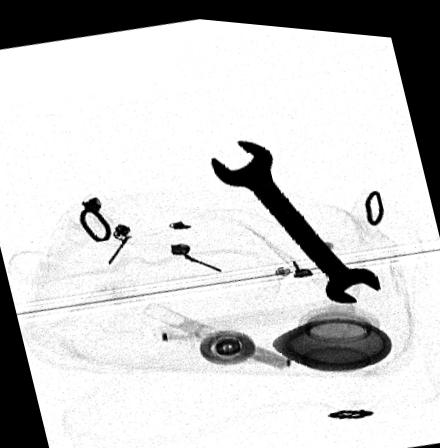Wrench: (208, 135, 382, 296)
